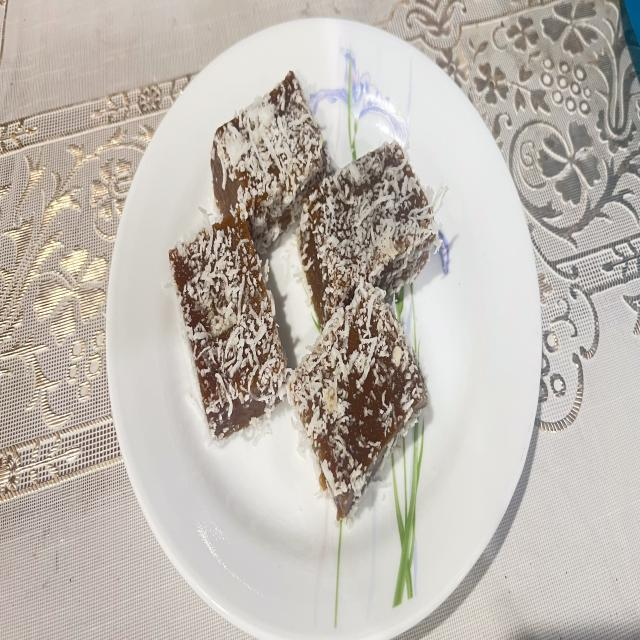kaswi: (288, 282, 428, 520), (296, 142, 439, 327), (169, 216, 286, 440), (211, 71, 328, 251)
